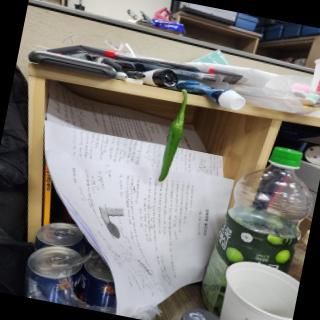Cabai Hijau: (151, 84, 203, 196)
